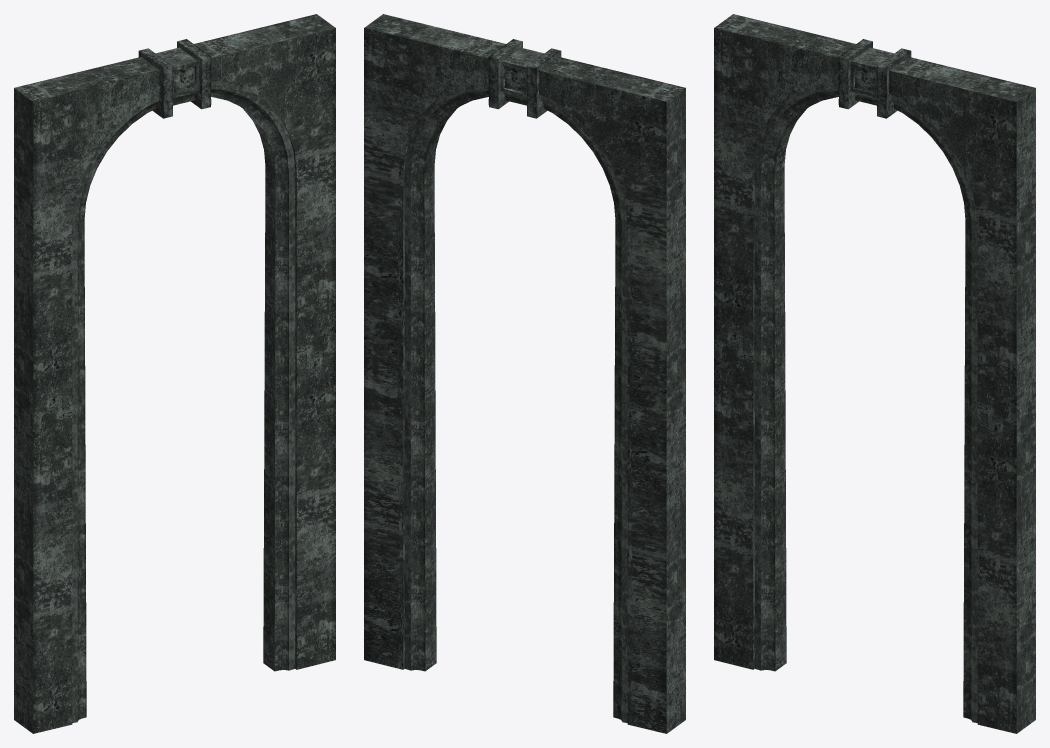
The model's file is mg_9_pillar_5.fbx.
The picture shows the model from 3 angles, left to right: view 1: azimuth 30°, elevation 25°; view 2: azimuth 150°, elevation 25°; view 3: azimuth 330°, elevation 25°; orthographic projection.
Visible parts, largest first — view 1: mg_9_pillar_5; view 2: mg_9_pillar_5; view 3: mg_9_pillar_5.
Boxes of the visible parts, left/top/right/bottom form: mg_9_pillar_5: left=14, top=14, right=335, bottom=733; mg_9_pillar_5: left=364, top=14, right=685, bottom=733; mg_9_pillar_5: left=714, top=14, right=1035, bottom=733.
Size of the model in its own units: 758 by 1522 by 106.
